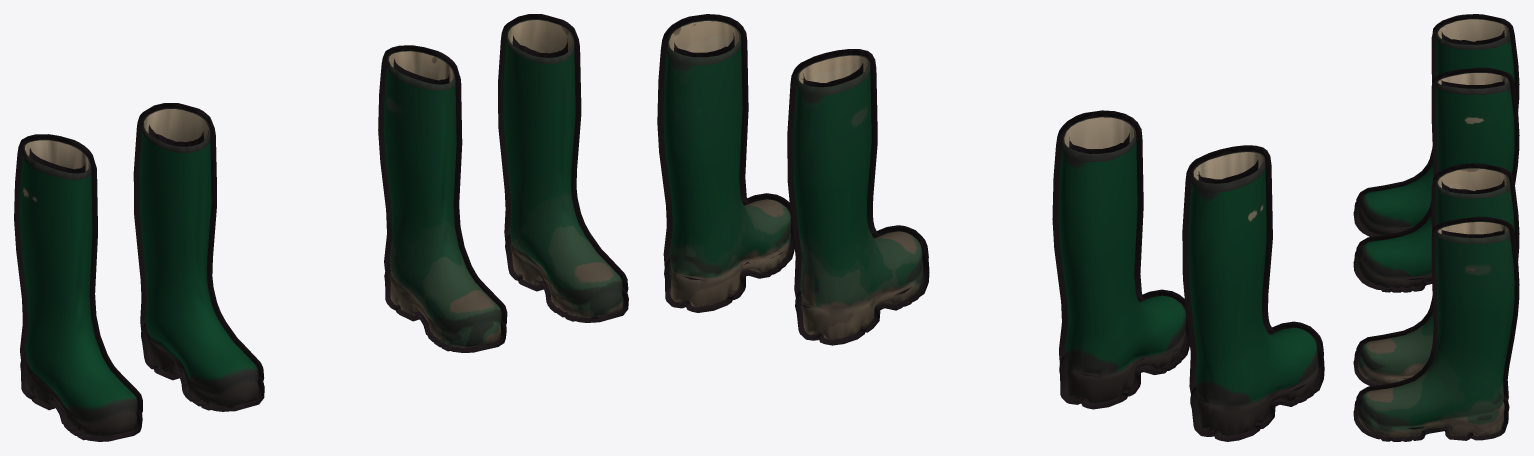
The model's file is SM_Int_Boots.fbx.
3 renders of one model, left to right at view 1: azimuth 30°, elevation 25°; view 2: azimuth 150°, elevation 25°; view 3: azimuth 270°, elevation 25°, orthographic. The views are drawn at different scales.
Visible parts, largest first — view 1: SM_Int_Boots; view 2: SM_Int_Boots; view 3: SM_Int_Boots.
Part boxes in pixels (x1,y1,x2,y2): SM_Int_Boots: (14, 14, 628, 441); SM_Int_Boots: (657, 14, 1324, 441); SM_Int_Boots: (1353, 14, 1519, 441).
Bounding box in the file's own units: 0.9065 × 0.3878 × 0.2821.
